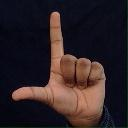hand: (11, 10, 106, 126)
